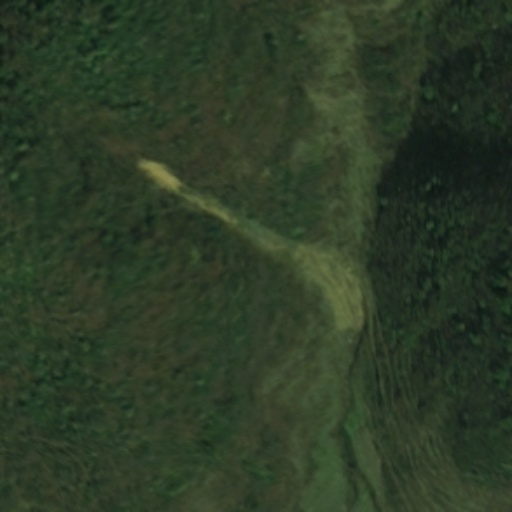landslide: (137, 158, 366, 331)
